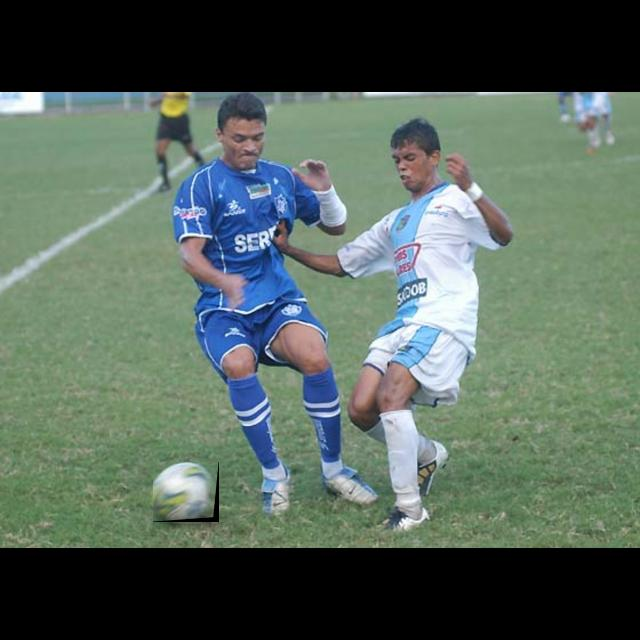Football: (153, 462, 219, 522)
